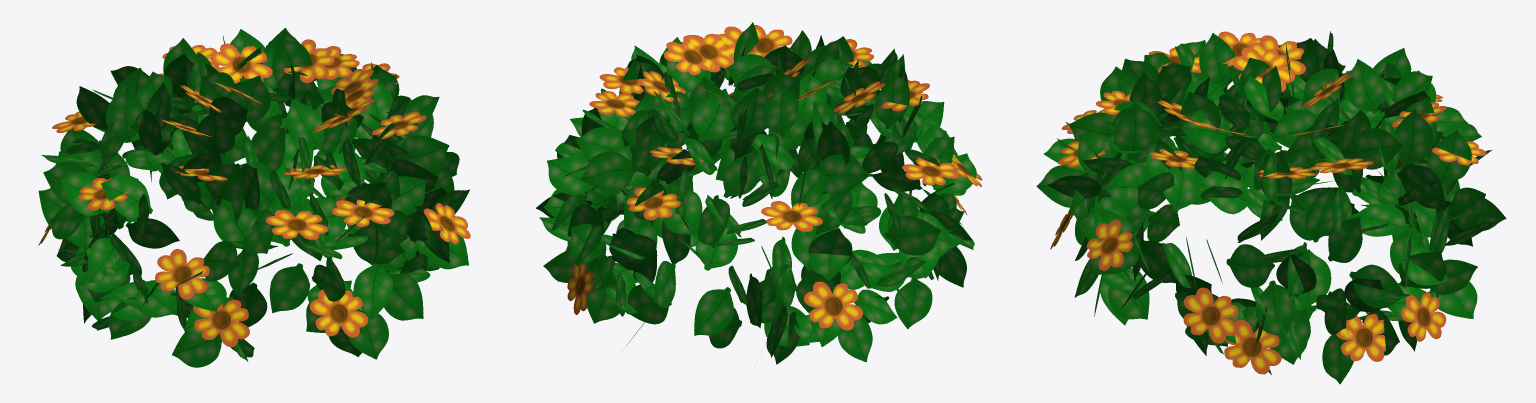
File: model_ArbustoFlorAmarela_01.fbx
3 renders of one model, left to right at view 1: azimuth 30°, elevation 25°; view 2: azimuth 150°, elevation 25°; view 3: azimuth 270°, elevation 25°, orthographic.
Parts seen in each view (by area): view 1: BlushWithYellowFlowers; view 2: BlushWithYellowFlowers; view 3: BlushWithYellowFlowers.
Part boxes in pixels (left/top/right/bottom): BlushWithYellowFlowers: left=38, top=28, right=470, bottom=367; BlushWithYellowFlowers: left=536, top=22, right=982, bottom=364; BlushWithYellowFlowers: left=1036, top=31, right=1506, bottom=384.
Bounding box in the file's own units: 281 × 178 × 284.
